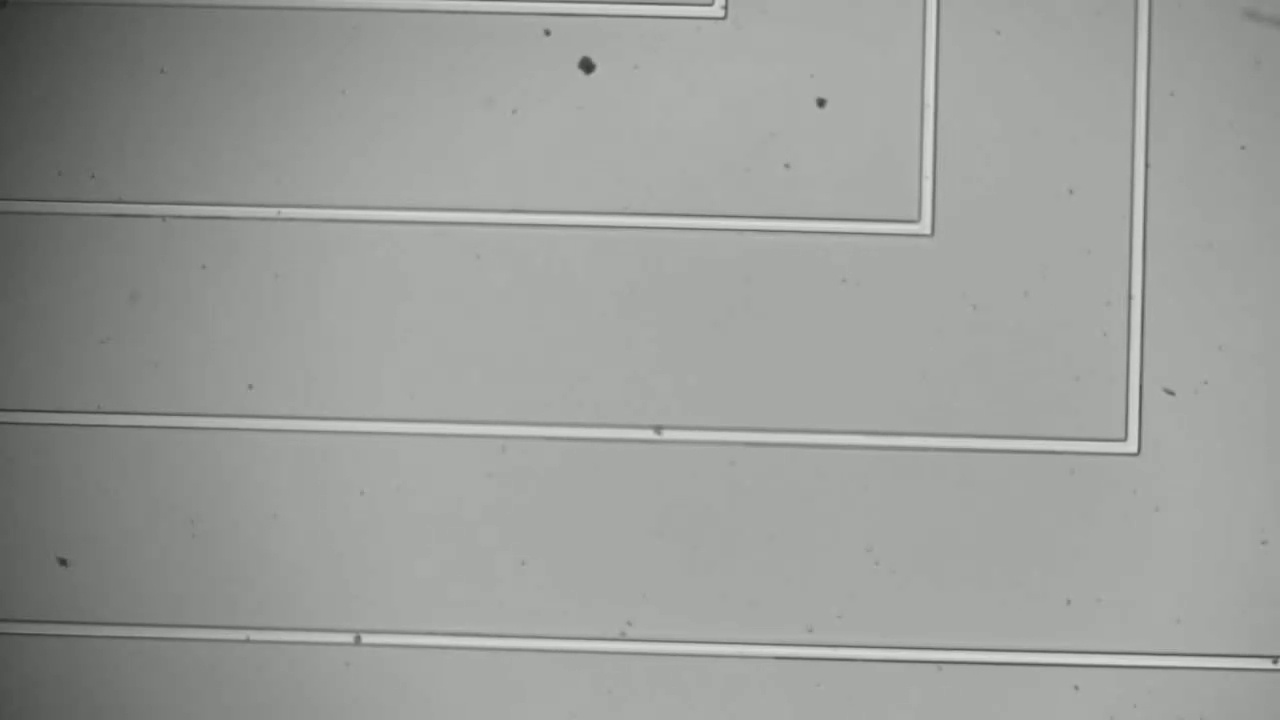stains_enbedded: (641, 416, 672, 453), (345, 622, 366, 653)
